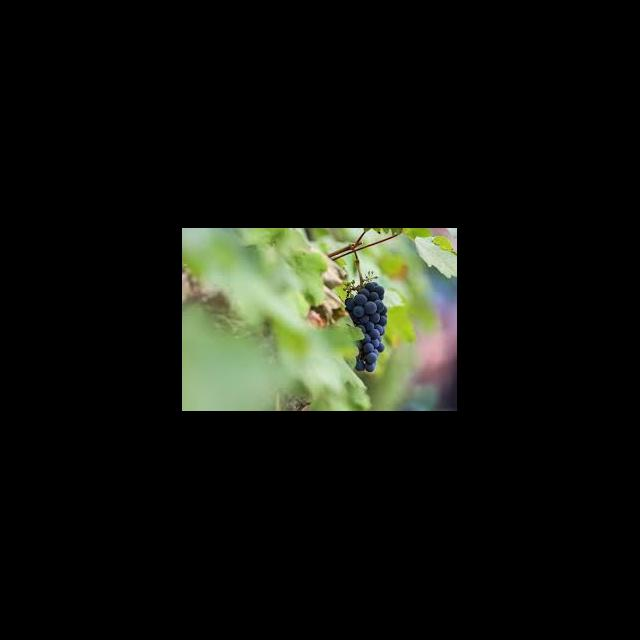grape: (344, 282, 388, 372)
